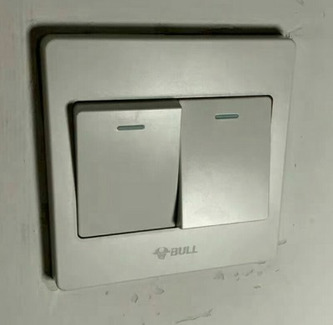switch: (65, 93, 185, 236), (169, 89, 281, 233)
